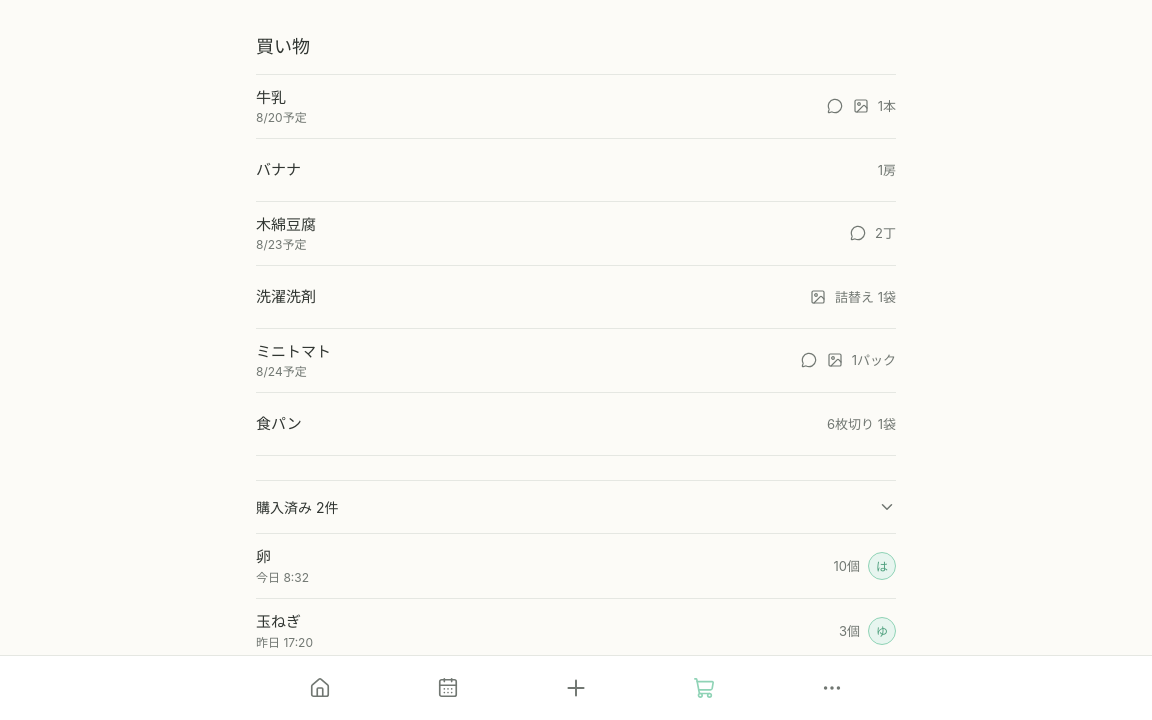
Test case: ShoppingPage › expands a purchased row with restore and returns it to active
The image size is (1152, 720).
Click the button with class "shopping-item-row__main" showing "卵 今日 8:32 10個 は" at [282, 577], box [256,534,896,598]
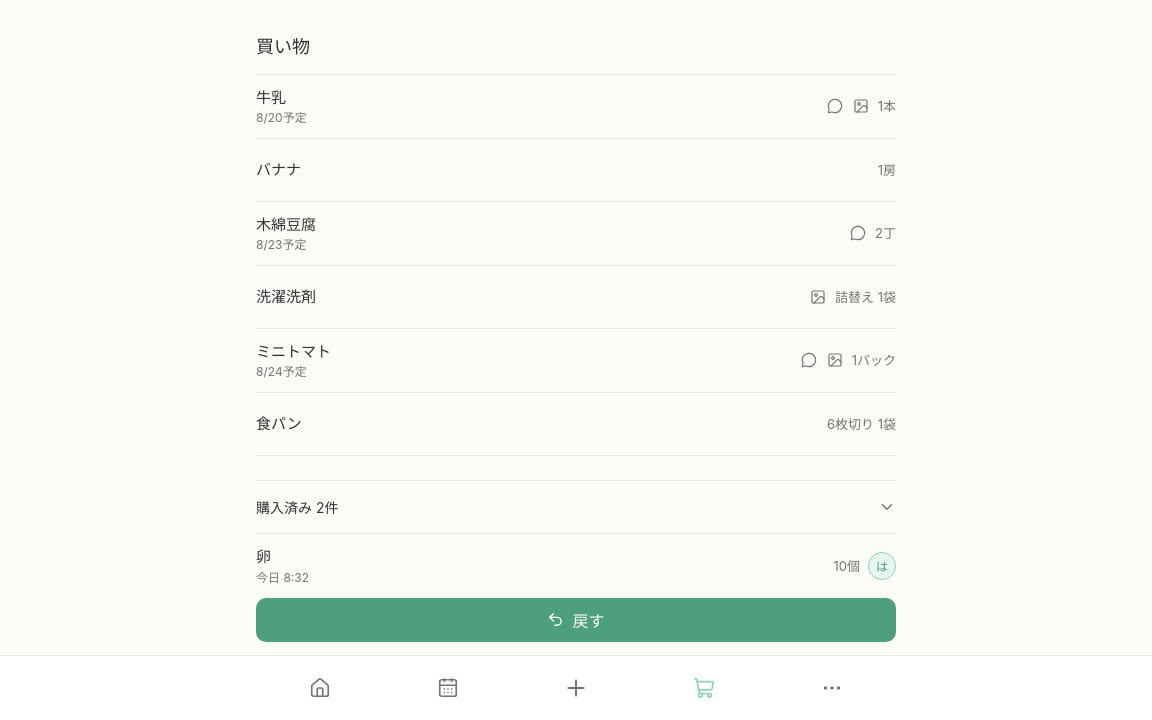
Expected: the button "戻す" is shown
Click the button "戻す" at [576, 620], box [256,598,896,642]
Wait 180 ms
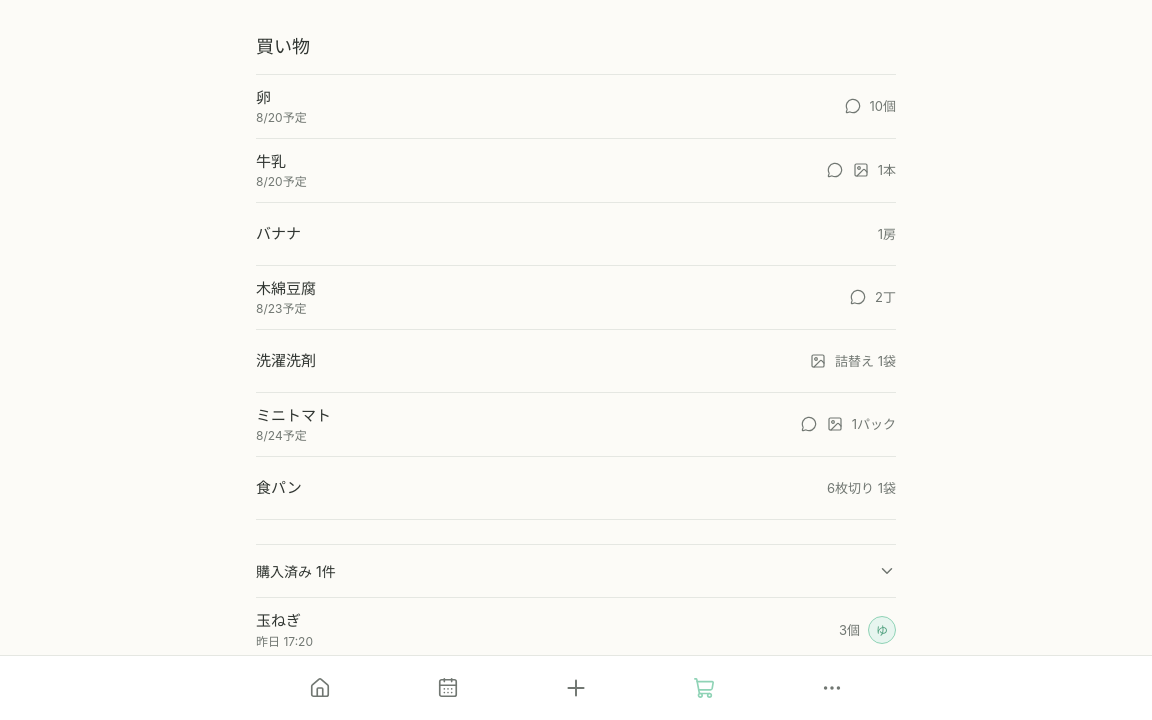
Expected: the text "卵" is shown, [256,88,271,107]
Expected: the text "購入済み 1件" is shown, [256,561,336,581]
Expected: the button "卵 8/20予定 10個" is shown, [256,75,896,138]
